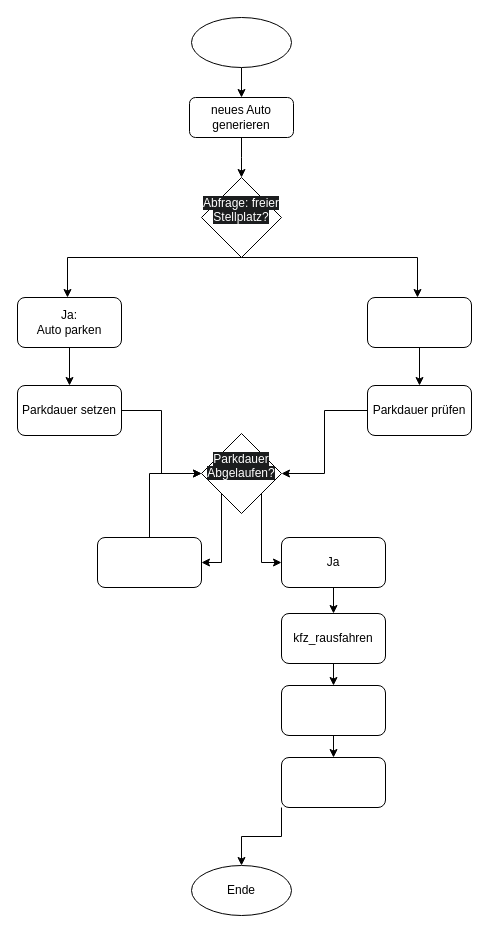
This 489x933 diagram has some shape labels left out. Here are the shapes that lost their labels. From the top down, the box of each, then its label:
(190, 16, 292, 68): Start
(366, 296, 472, 348): Nein: Auto in Warteschlange setzen
(96, 536, 202, 588): Nein
(280, 684, 386, 736): Freie Plätze und Warteschlange prüfen
(280, 756, 386, 808): Autos aus Warteschlange parken
